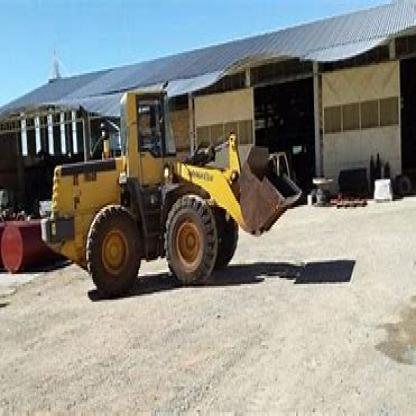bull_dozer/loader/grader: (39, 77, 302, 294)
